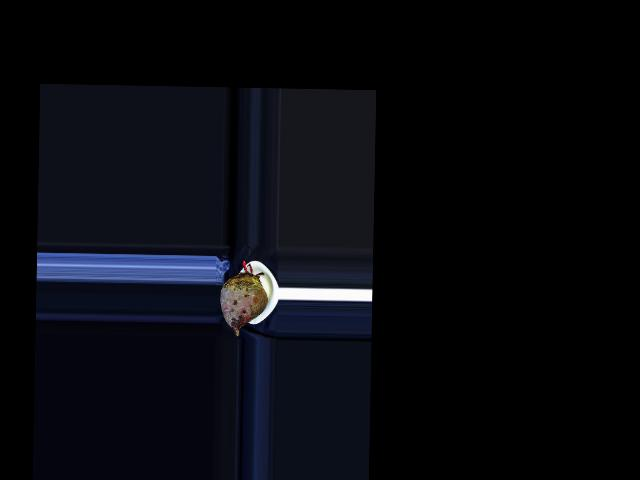beet: (220, 260, 268, 336)
